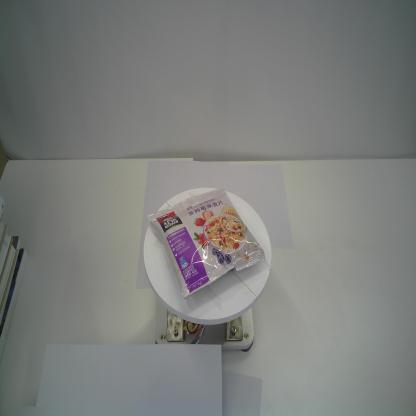Instant Drink: (148, 188, 266, 300)
